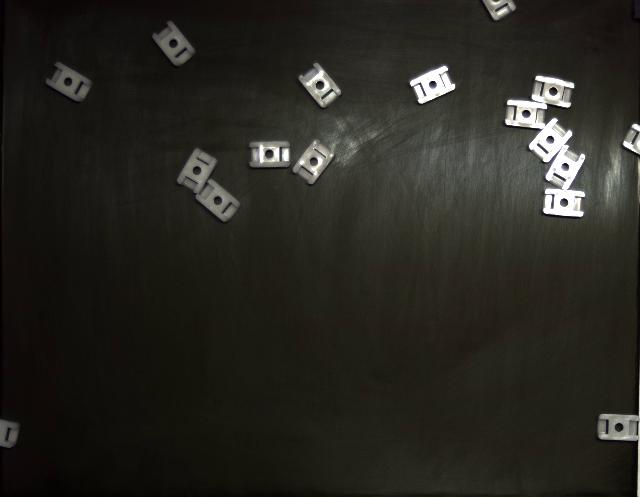second_side: (152, 21, 196, 66), (292, 140, 335, 185), (299, 62, 341, 108), (196, 180, 240, 222), (46, 62, 92, 102), (529, 119, 571, 162), (178, 149, 218, 194), (545, 145, 585, 190), (410, 66, 455, 104), (531, 75, 575, 108), (505, 100, 548, 129), (542, 189, 585, 218), (598, 414, 640, 441), (250, 141, 290, 168)
